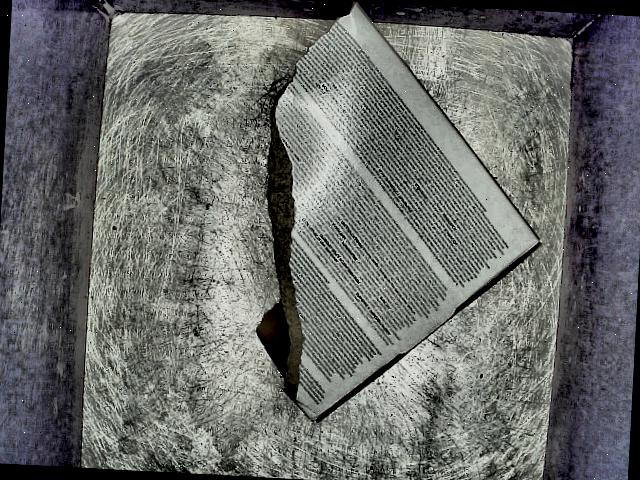Paper: (202, 0, 556, 439)
